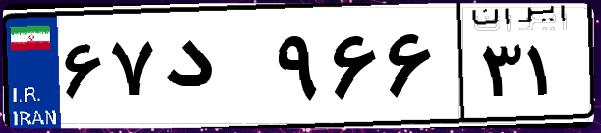1: (525, 38, 570, 115)
3: (475, 38, 525, 113)
6: (385, 28, 445, 110), (330, 28, 385, 110), (57, 26, 110, 100)
7: (110, 28, 158, 98)
9: (270, 28, 330, 110)
د: (158, 20, 270, 120)
